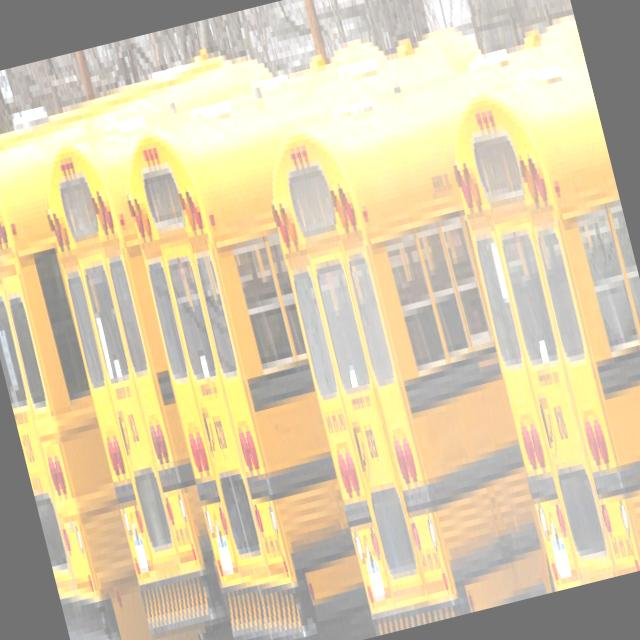Vehicle: (97, 6, 607, 640), (18, 22, 500, 640), (0, 60, 360, 640), (247, 70, 591, 636), (427, 46, 640, 591)
